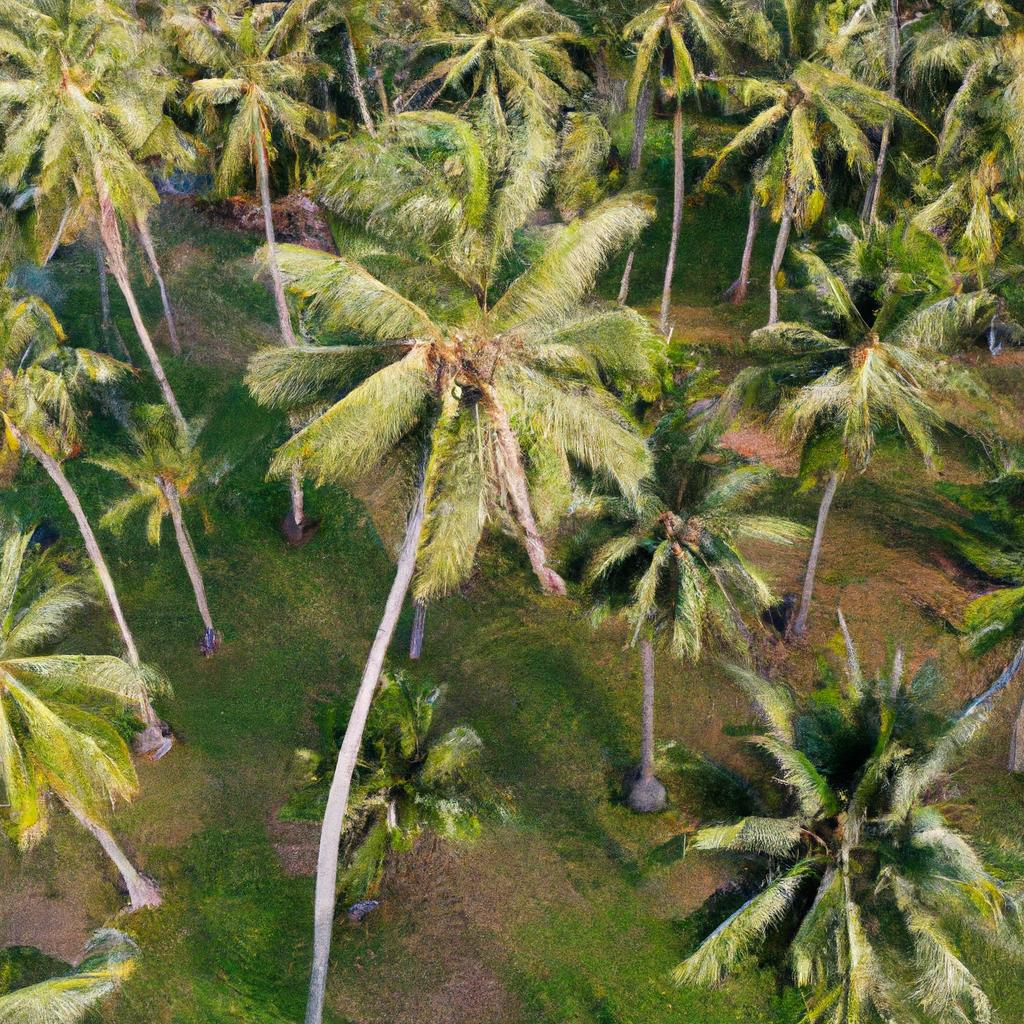coconut_tree: (235, 101, 654, 585), (678, 616, 1017, 1023), (733, 207, 1017, 491), (568, 421, 795, 672), (0, 0, 206, 231)
